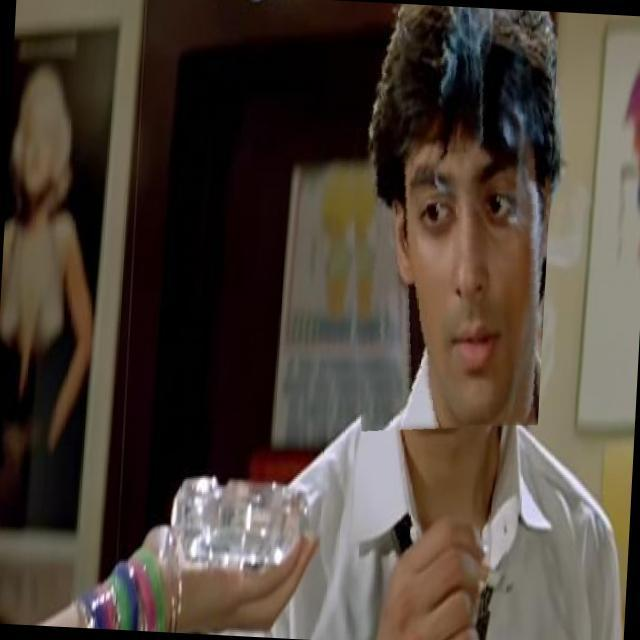cigarette: (443, 507, 531, 613)
